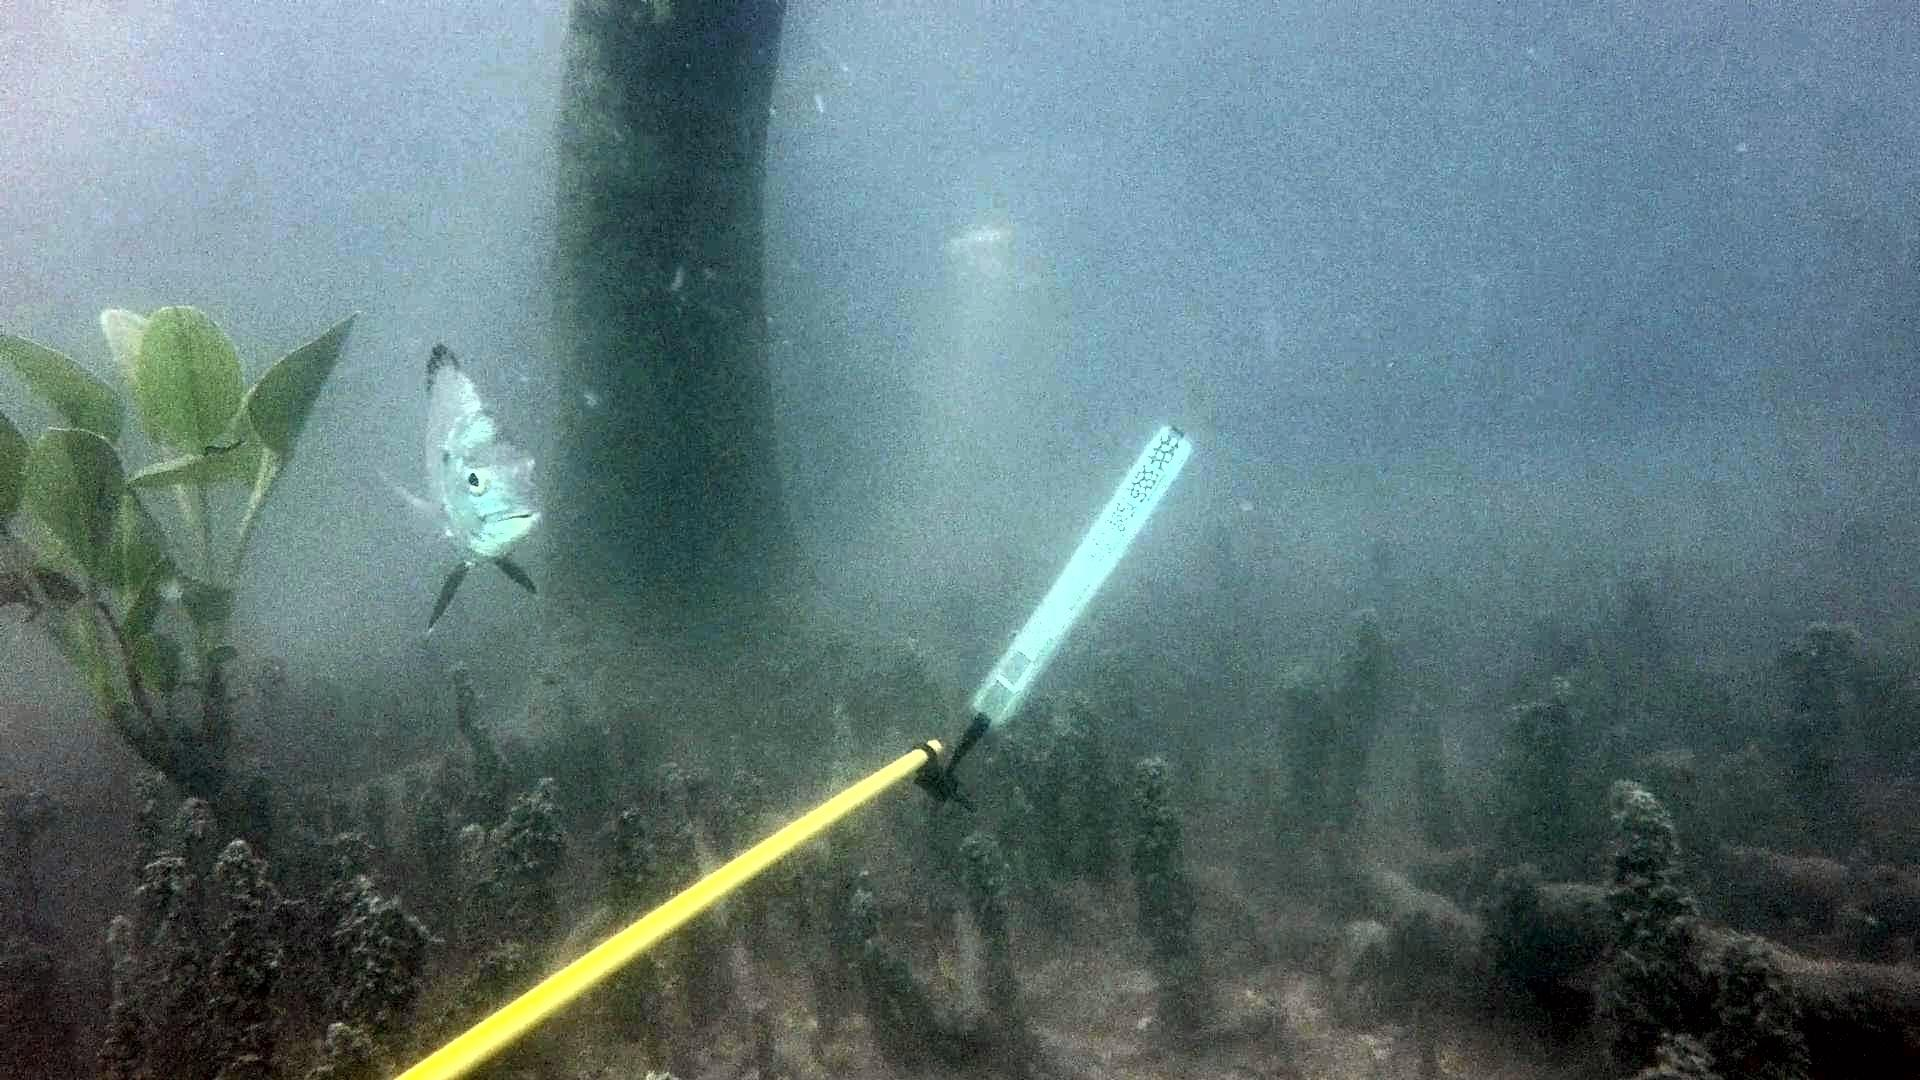acanthopagrus palmaris: (365, 331, 555, 637)
